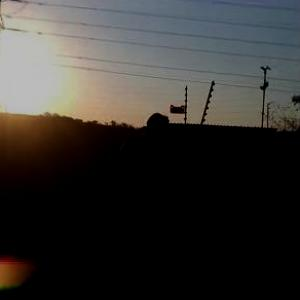follow: (113, 107, 174, 299)
